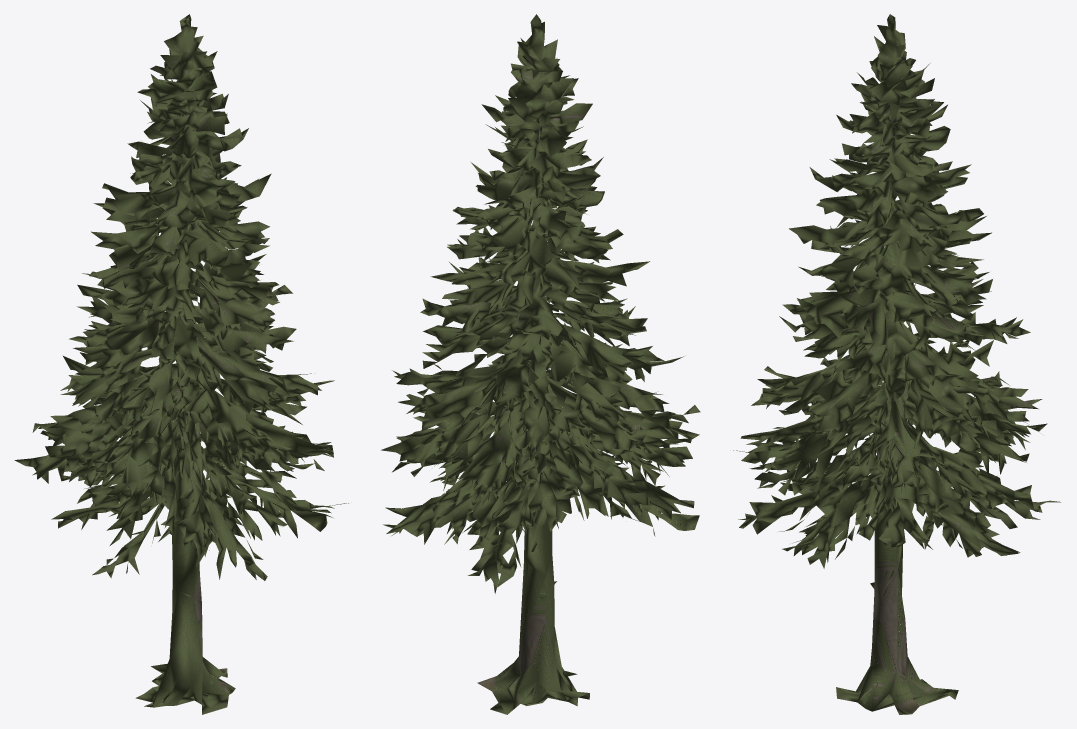
File: tree_pine.glb
3 views of the same model, side by side, from view 1: azimuth 30°, elevation 25°; view 2: azimuth 150°, elevation 25°; view 3: azimuth 270°, elevation 25° (orthographic).
Parts seen in each view (by area): view 1: tree_pine; view 2: tree_pine; view 3: tree_pine.
Boxes of the visible parts, left/top/right/bottom form: tree_pine: left=14, top=14, right=348, bottom=714; tree_pine: left=381, top=14, right=700, bottom=714; tree_pine: left=733, top=14, right=1060, bottom=714.
Size of the model in its own units: 0.8248 by 1.88 by 0.8325.
1 material, 1 textured.
